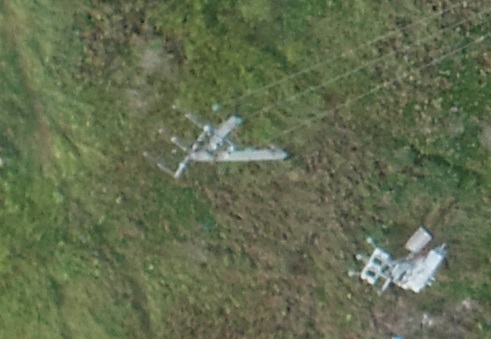opora: (142, 97, 291, 186)
